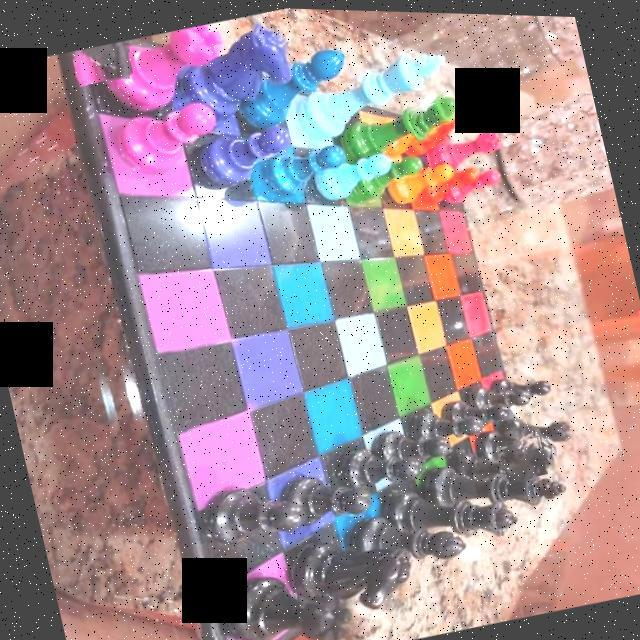chess-table-corners: (406, 92, 462, 150), (70, 38, 134, 88), (496, 429, 549, 482), (193, 611, 262, 640)
